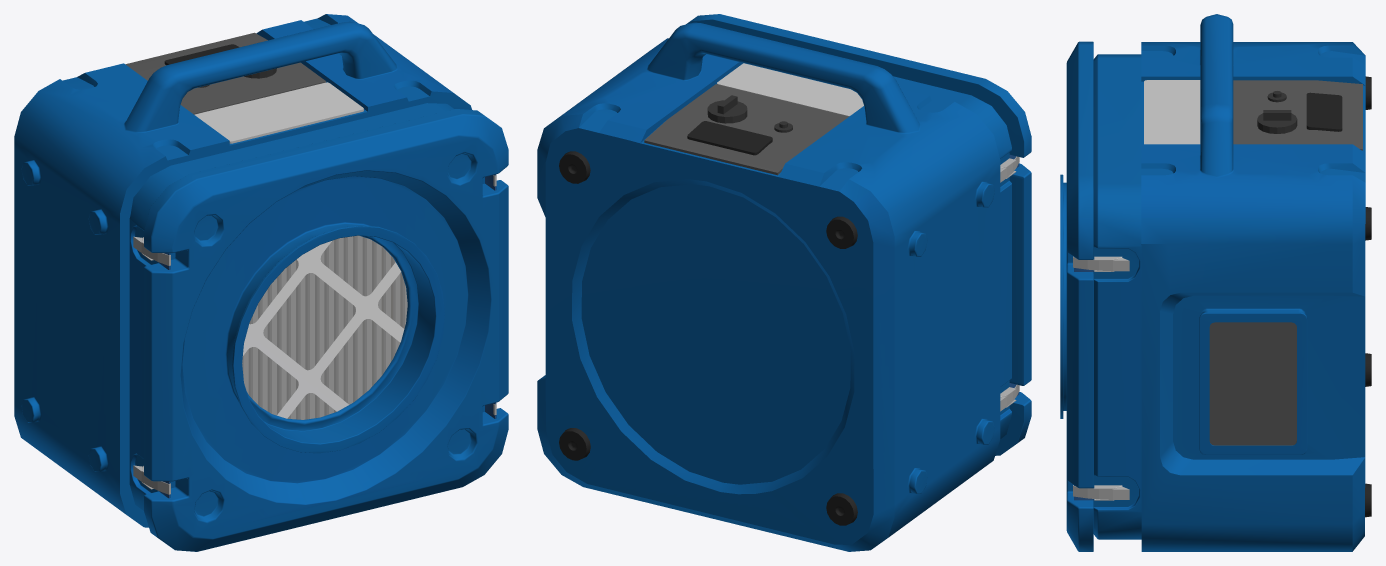
Rendered from CO2 Scrubber.glb.
3 views of the same model, side by side, from view 1: azimuth 30°, elevation 25°; view 2: azimuth 150°, elevation 25°; view 3: azimuth 270°, elevation 25° (orthographic).
Parts seen in each view (by area): view 1: c02-scrubber; view 2: c02-scrubber; view 3: c02-scrubber.
Part boxes in pixels (left/top/right/bottom): c02-scrubber: left=14, top=14, right=508, bottom=551; c02-scrubber: left=537, top=14, right=1031, bottom=551; c02-scrubber: left=1060, top=14, right=1371, bottom=551.
Bounding box in the file's own units: 0.9014 × 1 × 0.6668.
1 material, 1 textured.
